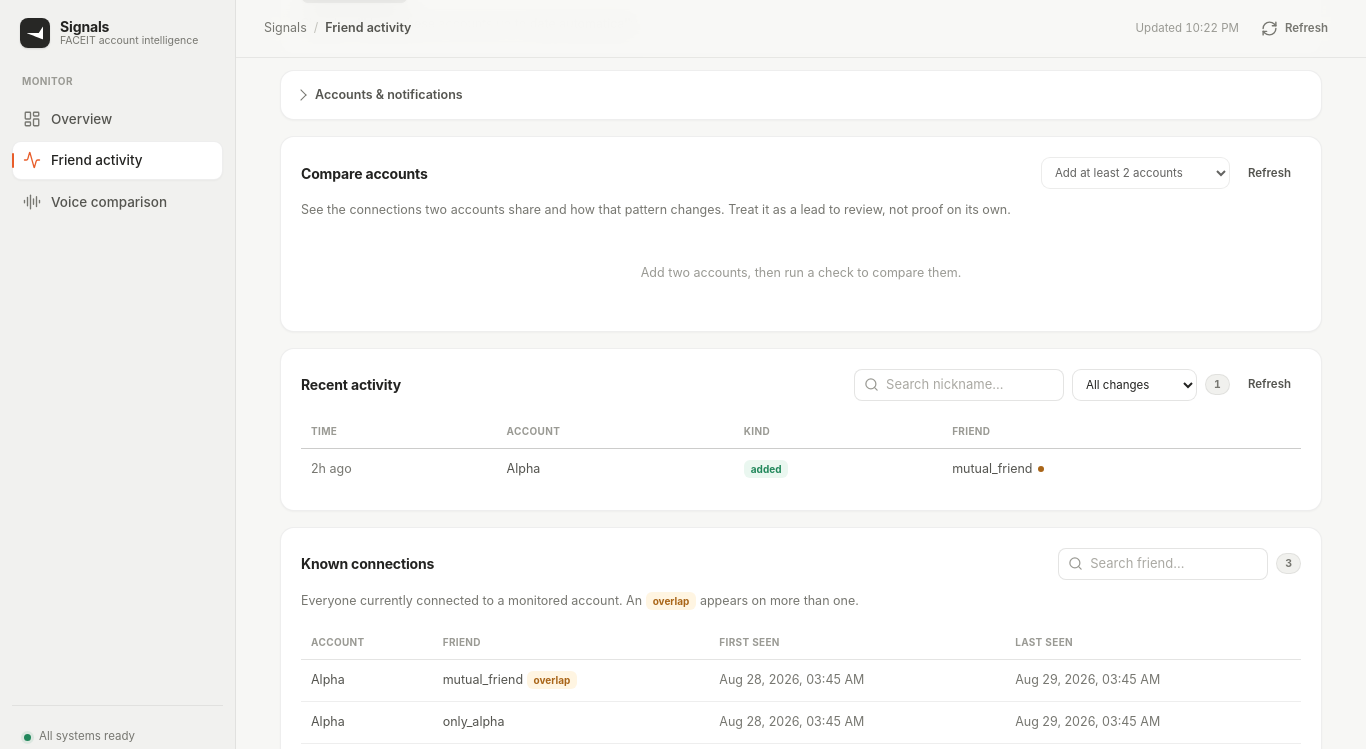
Test: event history › filters events by kind and search term
The image size is (1366, 749).
(page scrolled)
expect the text "mutual_friend" is shown: met, box [942,448,1301,490]
Step 1. Type "nothing-matches" into the search field named "Search events by nickname" → (970, 385), box [886,370,1054,400]
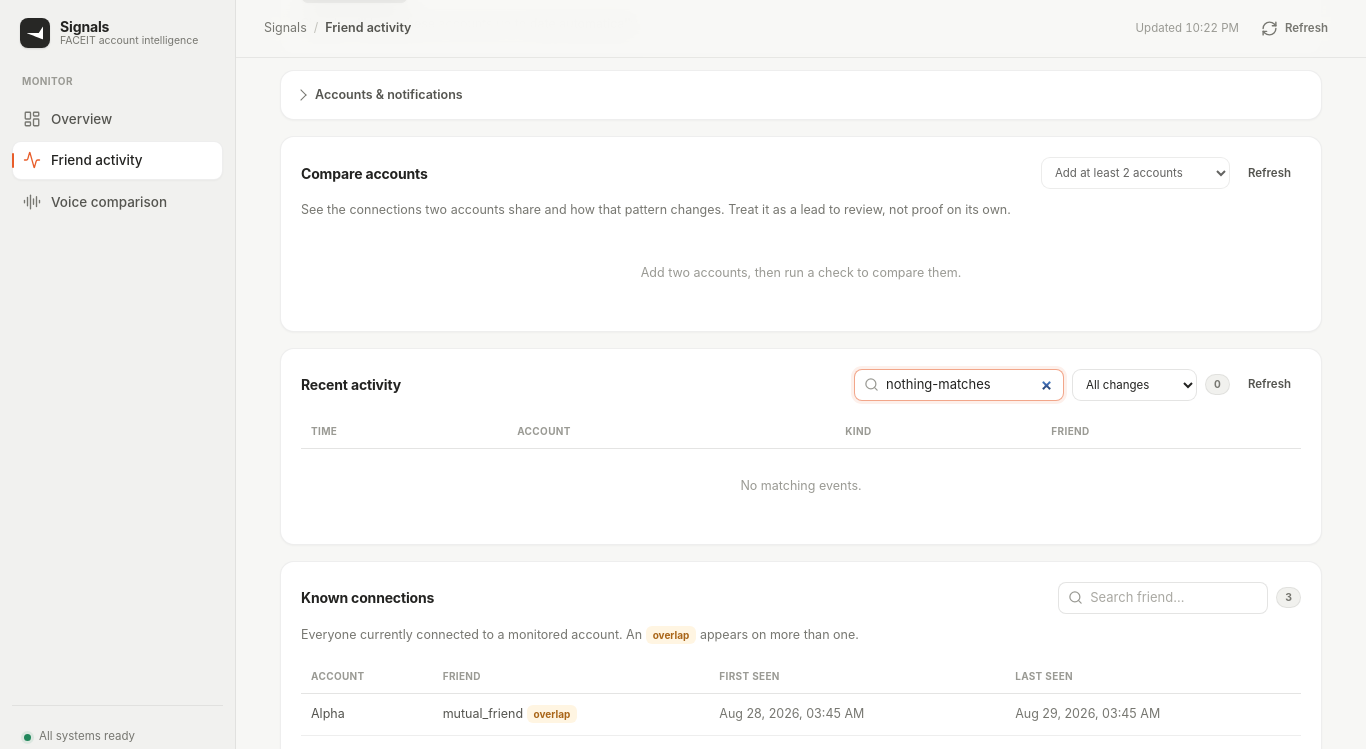
expect the text "No matching events." is shown: met, box [301,448,1301,524]
Step 2. Clear the search field named "Search events by nickname" → (970, 385), box [886,370,1054,400]
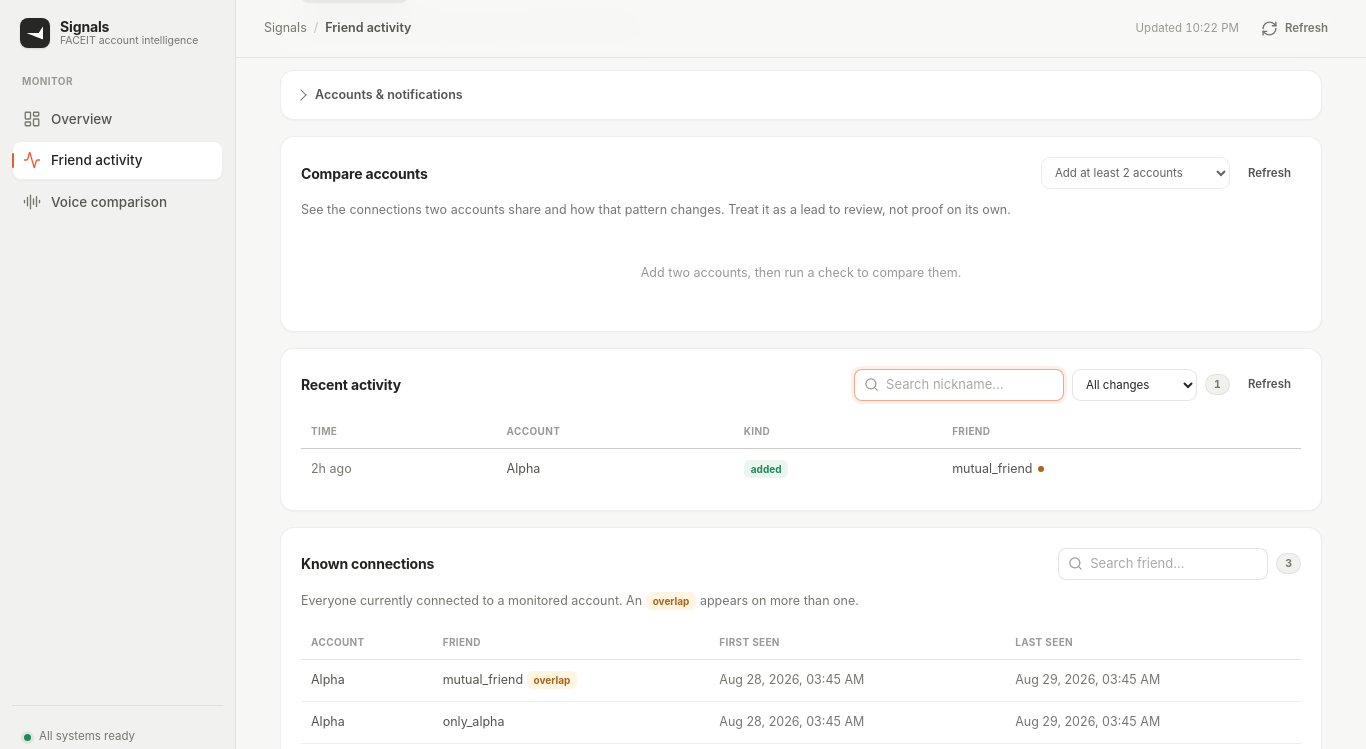
expect the text "mutual_friend" is shown: met, box [942,448,1301,490]
